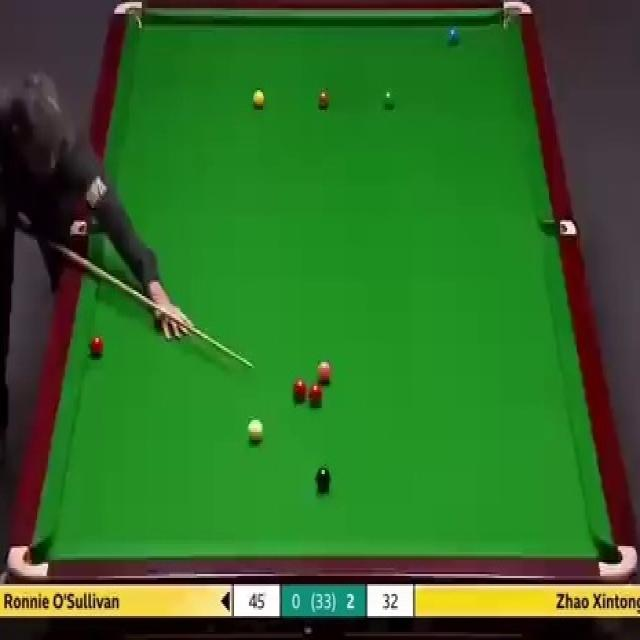pocket: (595, 538, 638, 584), (6, 540, 53, 577), (111, 0, 144, 34), (501, 1, 530, 32), (538, 218, 579, 237), (68, 220, 92, 232)
